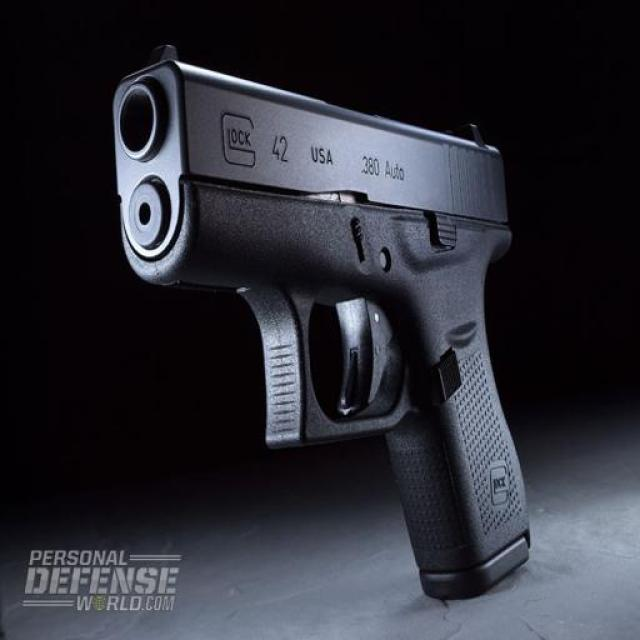pistol: (103, 40, 531, 596)
